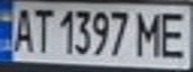1: (54, 6, 75, 55)
3: (72, 7, 93, 55)
7: (109, 7, 133, 57)
9: (90, 7, 112, 56)
A: (9, 3, 36, 53)
E: (157, 7, 190, 60)
M: (133, 8, 166, 59)
T: (30, 4, 54, 54)
